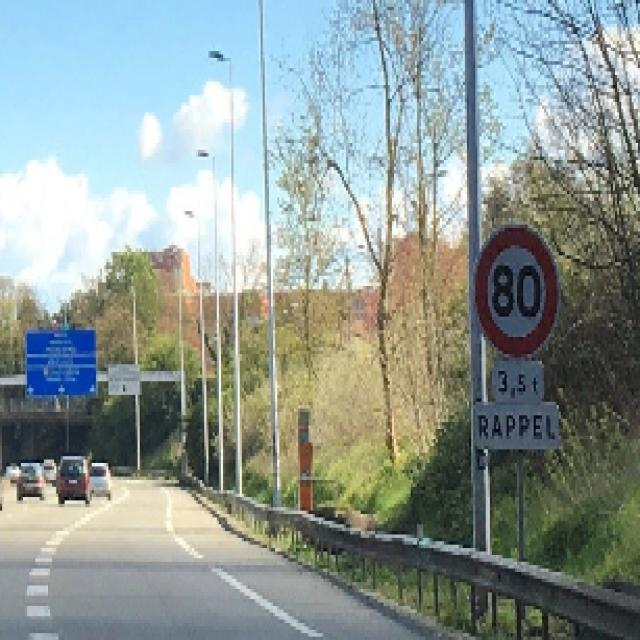speed_80: (472, 222, 560, 358)
